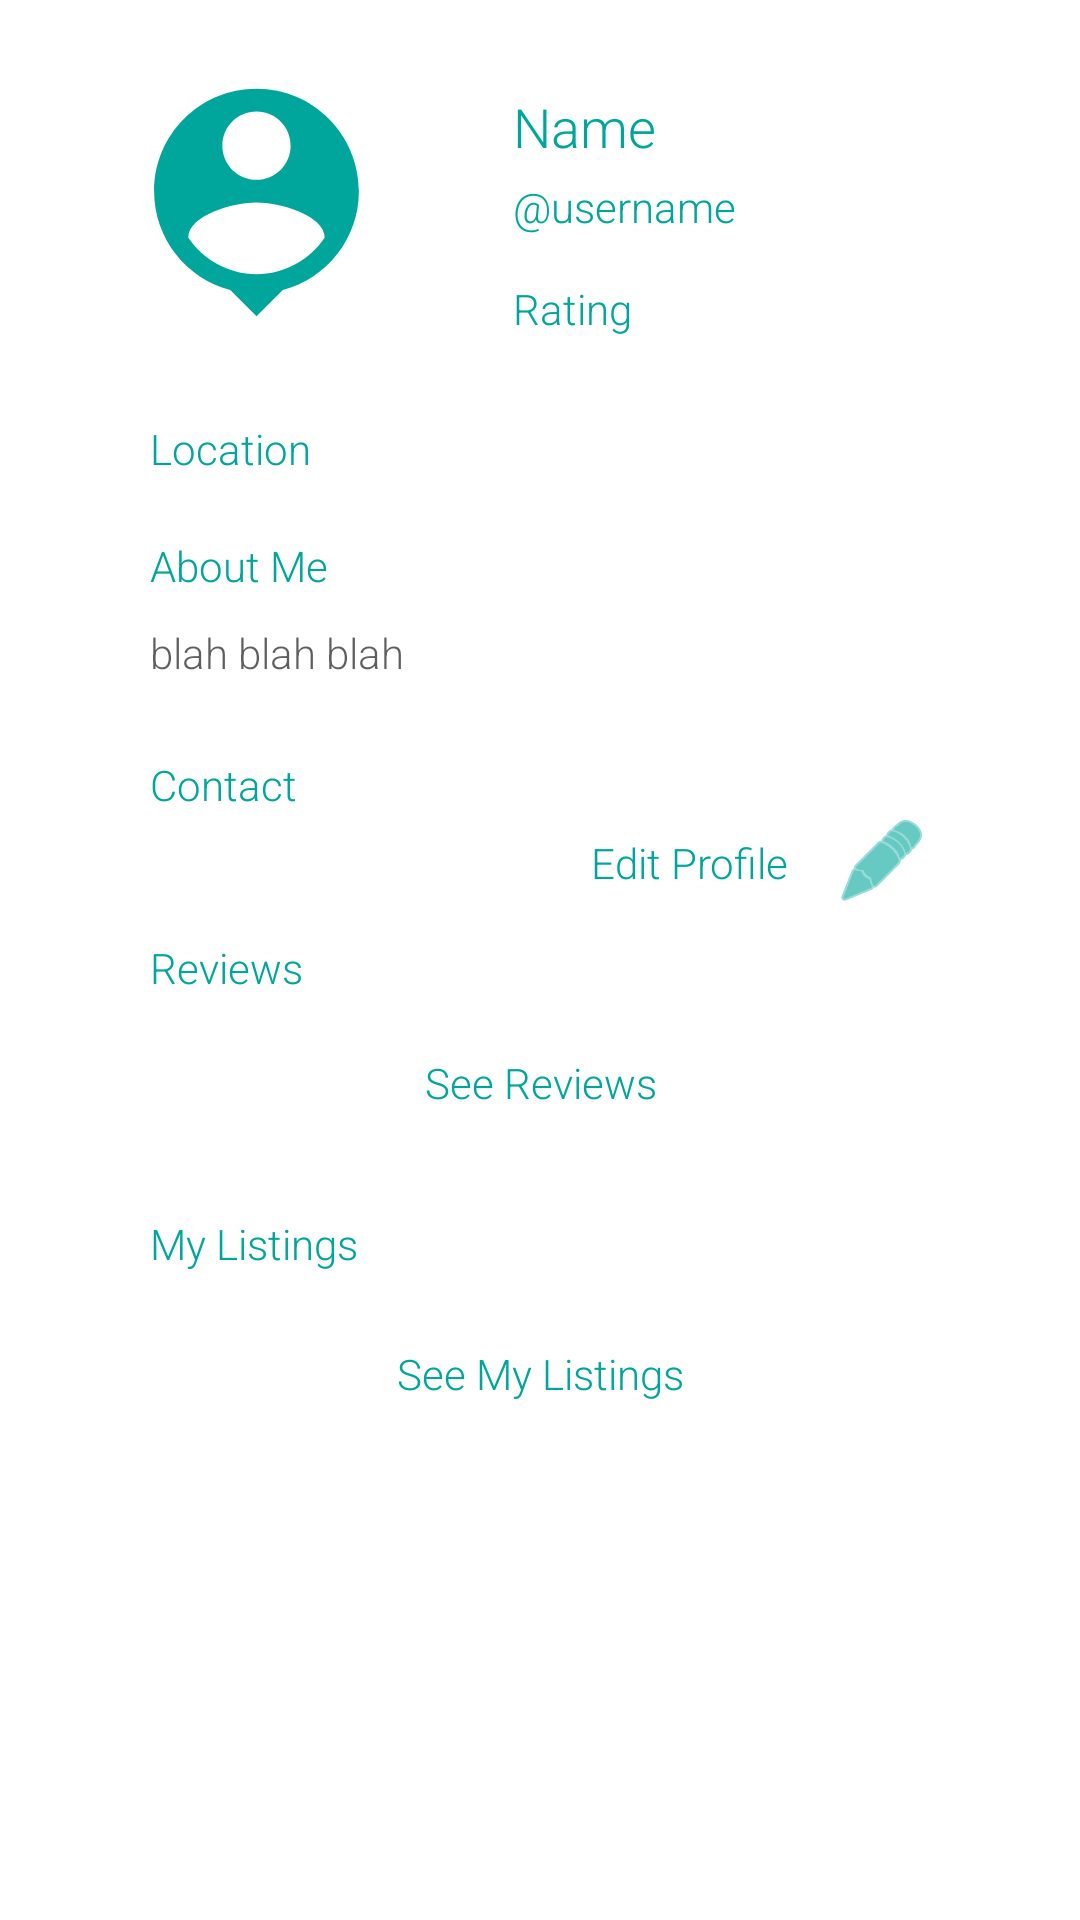

Named icons in this screenshot (1080 × 1920) and their centers, (x,y):
person pin: (256,202)
